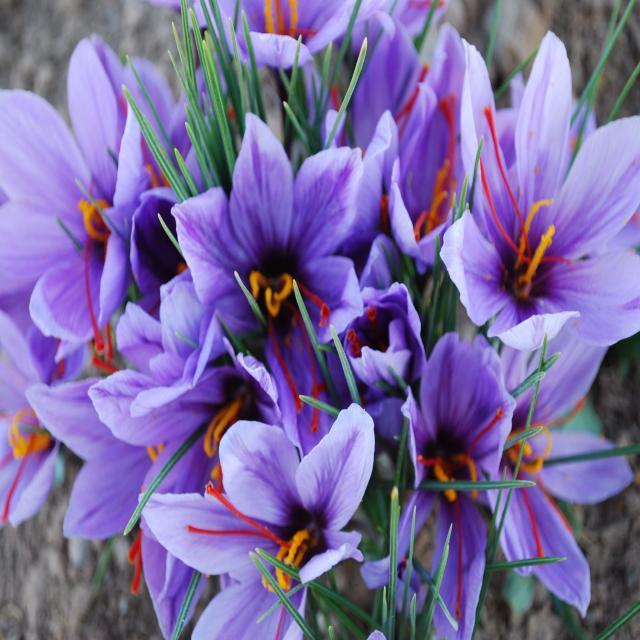Flower: (450, 86, 640, 358), (5, 42, 162, 366), (170, 136, 379, 368), (137, 418, 390, 602), (404, 320, 540, 560), (384, 106, 469, 286), (220, 0, 364, 84)
stigma: (482, 92, 524, 213), (207, 481, 276, 545), (0, 424, 39, 536), (80, 232, 112, 359), (475, 161, 515, 257), (265, 322, 300, 415), (452, 503, 469, 628), (516, 490, 545, 562), (183, 521, 264, 540), (521, 489, 542, 556)
